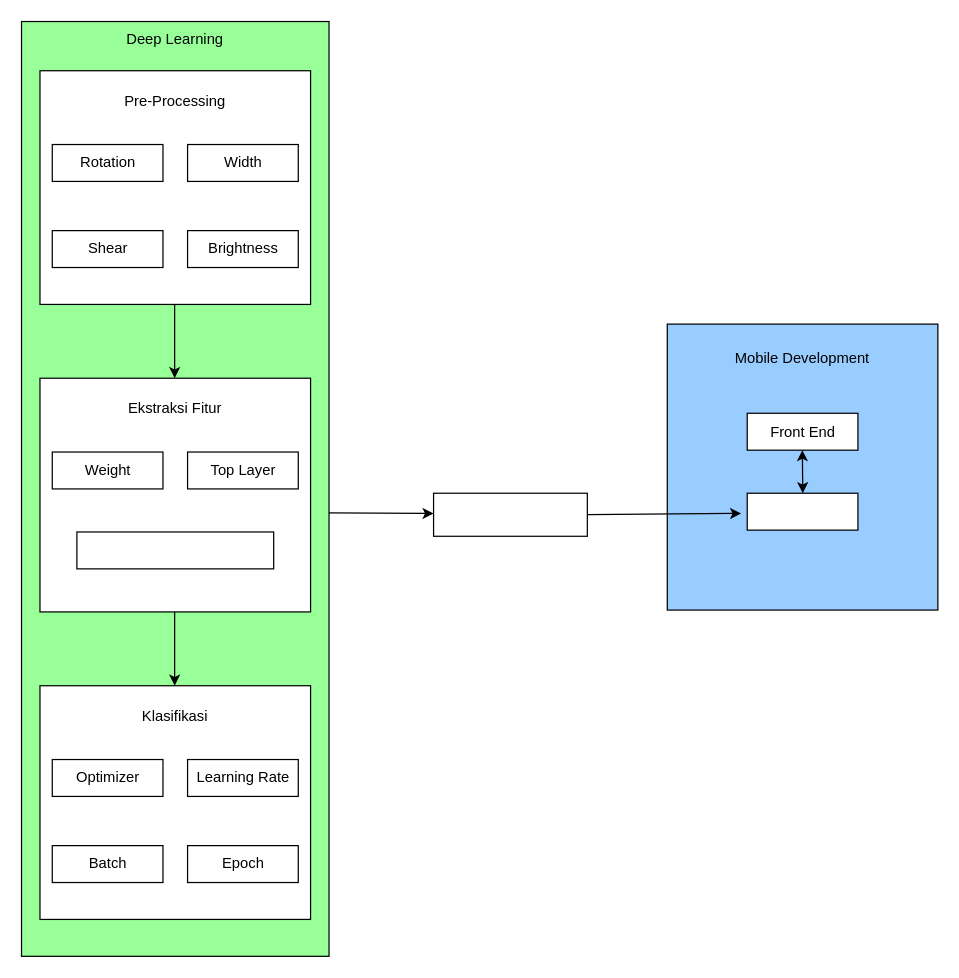
Some shapes in this 959 by 978 pixel diagram are drawn without their labels. The centre of each missing label's shape, as x and y in pixels:
Back End: the point at 802,511
Layer Configuration: the point at 175,550
Model TensorFlow Lite: the point at 509,514
